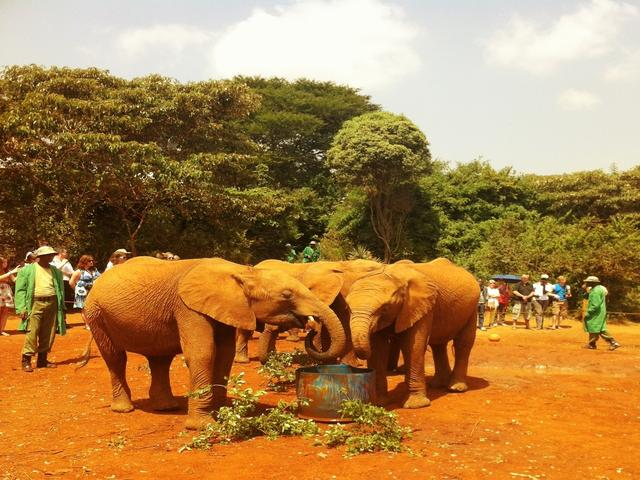elephant: (76, 234, 367, 436)
